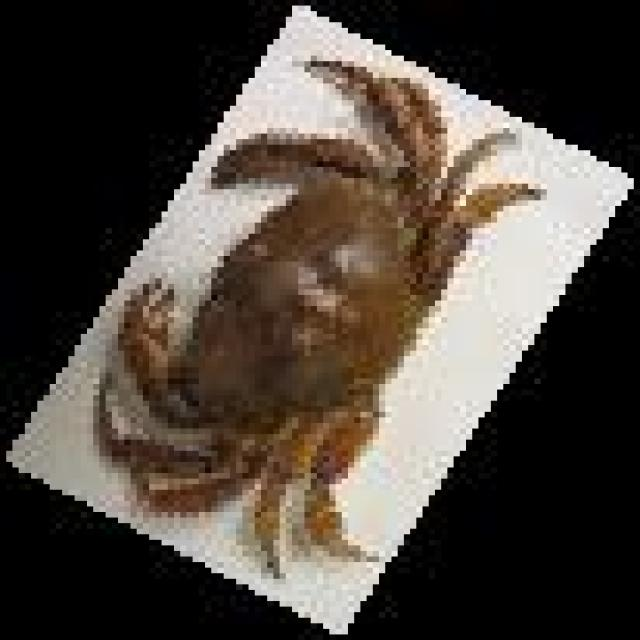Native Rock crab: (93, 61, 534, 573)
